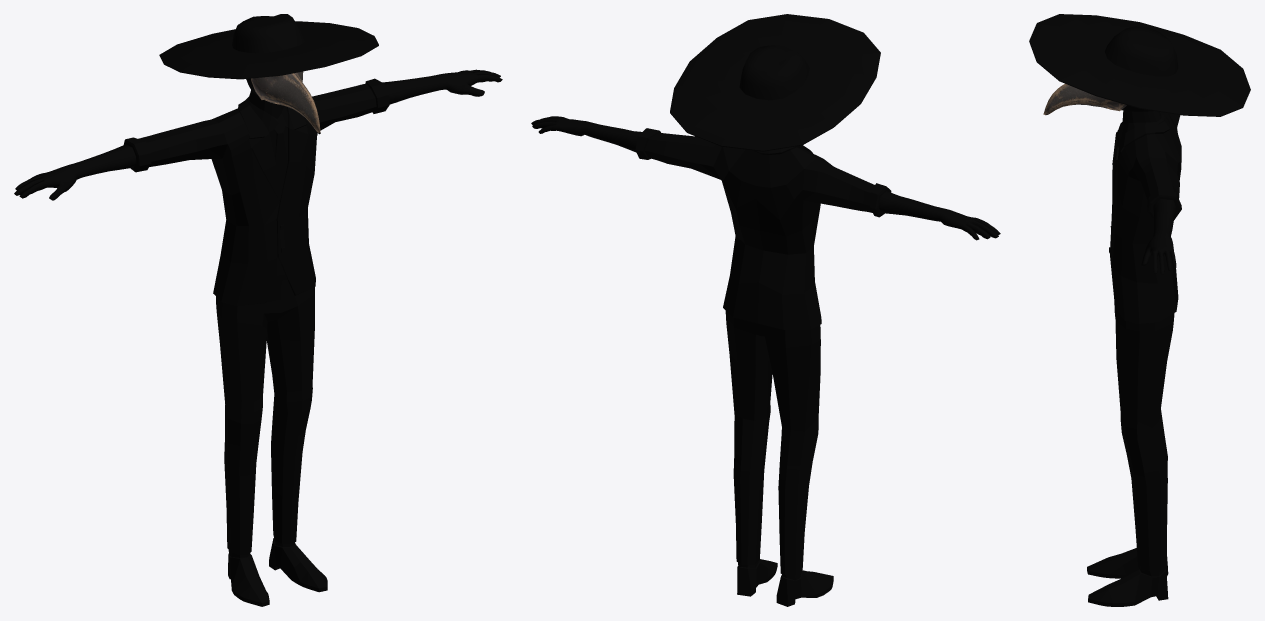
The model's file is Blackbeak_mixamo.fbx.
3 renders of one model, left to right at view 1: azimuth 30°, elevation 25°; view 2: azimuth 150°, elevation 25°; view 3: azimuth 270°, elevation 25°, orthographic. The views are drawn at different scales.
Parts seen in each view (by area): view 1: Blackbeak_Body, hat, hand_basemesh, AnatomyHandHumanMale:hand_basemesh, plague_mask; view 2: Blackbeak_Body, hat, hand_basemesh, AnatomyHandHumanMale:hand_basemesh; view 3: Blackbeak_Body, hat, AnatomyHandHumanMale:hand_basemesh, plague_mask.
Boxes of the visible parts, x1,y1,x2,y2 form: Blackbeak_Body: (123, 78, 389, 606); hat: (159, 14, 378, 79); hand_basemesh: (14, 144, 136, 200); AnatomyHandHumanMale:hand_basemesh: (382, 69, 502, 104); plague_mask: (251, 71, 320, 134); Blackbeak_Body: (635, 128, 891, 606); hat: (670, 14, 880, 151); hand_basemesh: (878, 191, 1000, 240); AnatomyHandHumanMale:hand_basemesh: (531, 116, 641, 152); Blackbeak_Body: (1087, 105, 1181, 606); hat: (1029, 14, 1250, 116); AnatomyHandHumanMale:hand_basemesh: (1141, 199, 1176, 274); plague_mask: (1043, 83, 1126, 115).
Bounding box in the file's own units: 19.97 × 21.98 × 7.99.
